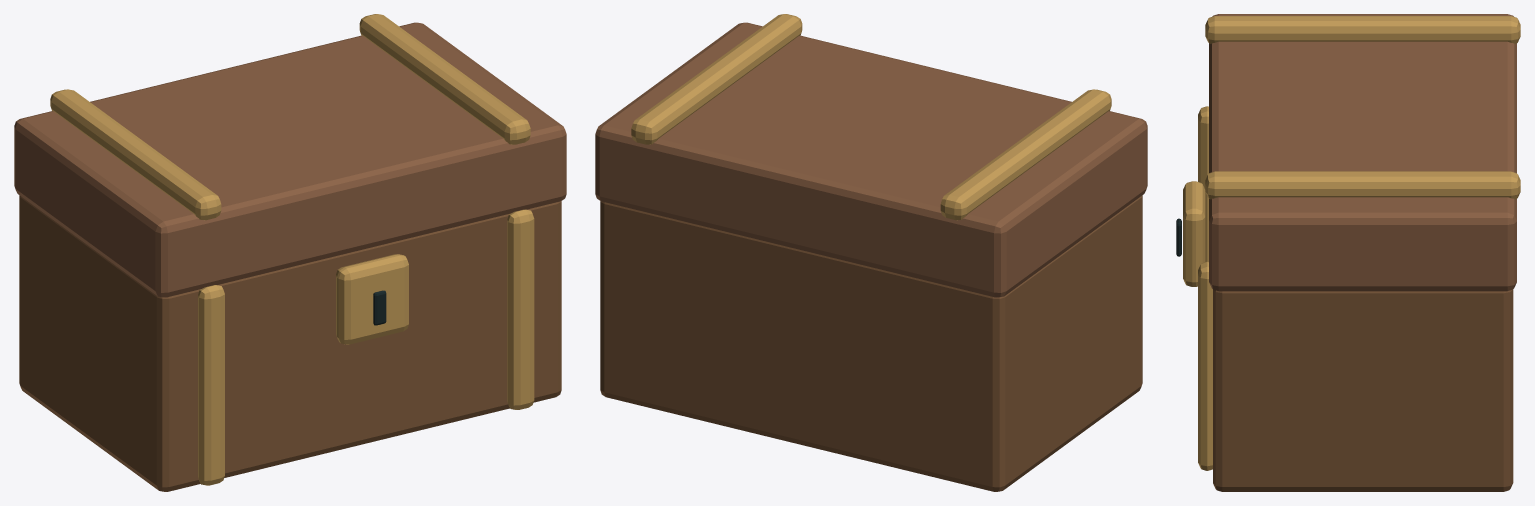
The model's file is treasure_chest.glb.
3 views of the same model, side by side, from view 1: azimuth 30°, elevation 25°; view 2: azimuth 150°, elevation 25°; view 3: azimuth 270°, elevation 25° (orthographic). The views are drawn at different scales.
Parts seen in each view (by area): view 1: ChestBody, DomedLid, ChestBand, LidBand; view 2: ChestBody, DomedLid, LidBand; view 3: DomedLid, ChestBody, LidBand, ChestBand.
Part boxes in pixels (<box>): ChestBody: <box>19,195,561,491</box>; DomedLid: <box>14,22,566,297</box>; ChestBand: <box>198,209,534,485</box>; LidBand: <box>50,14,530,220</box>; ChestBody: <box>600,195,1142,491</box>; DomedLid: <box>595,22,1147,297</box>; LidBand: <box>631,14,1111,220</box>; DomedLid: <box>1209,14,1516,291</box>; ChestBody: <box>1213,289,1513,491</box>; LidBand: <box>1205,16,1520,199</box>; ChestBand: <box>1183,106,1212,470</box>.
Bounding box in the file's own units: 1.3 × 0.875 × 0.9175.
